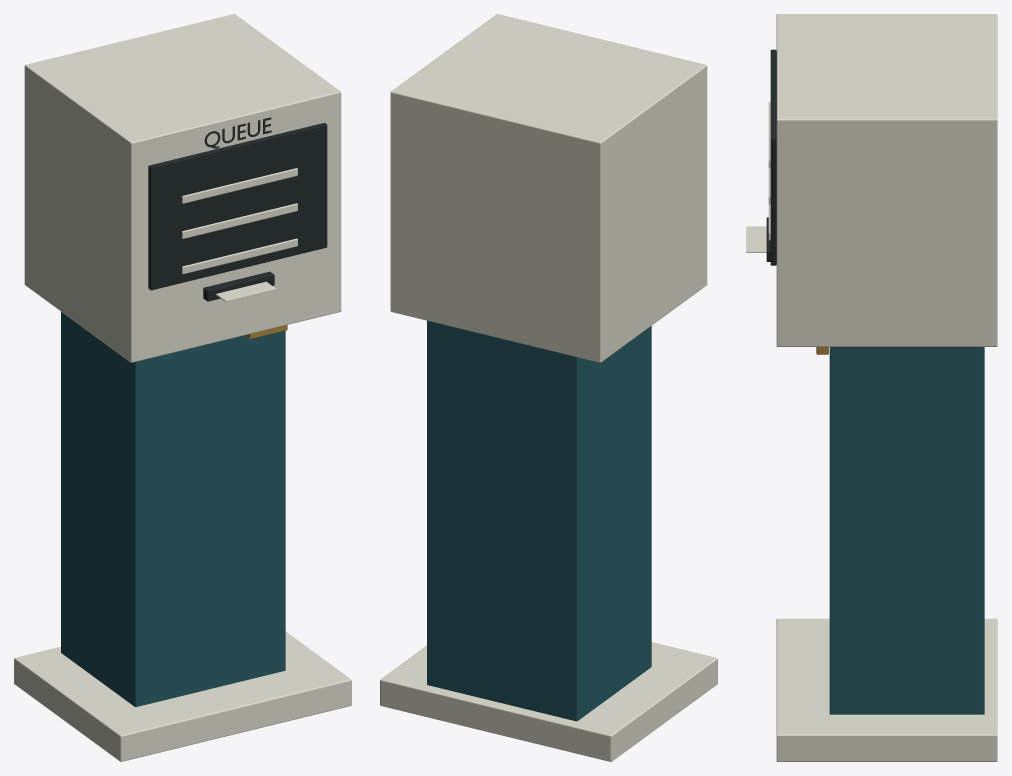
File: source-edit.glb
3 views of the same model, side by side, from view 1: azimuth 30°, elevation 25°; view 2: azimuth 150°, elevation 25°; view 3: azimuth 270°, elevation 25° (orthographic). The views are drawn at different scales.
Visible parts, largest first — view 1: Pedestal, Head, Display, Foot, Interface_Line.002, Interface_Line, Interface_Line.001, Ticket_Slot, Paper; view 2: Head, Pedestal, Foot; view 3: Head, Pedestal, Foot, Display, Paper.
Part boxes in pixels (x1,y1,x2,y2): Pedestal: [61, 312, 285, 707]; Head: [24, 14, 341, 362]; Display: [148, 123, 327, 290]; Foot: [14, 631, 351, 761]; Interface_Line.002: [182, 238, 297, 274]; Interface_Line: [182, 168, 297, 203]; Interface_Line.001: [182, 203, 297, 238]; Ticket_Slot: [203, 271, 274, 301]; Paper: [216, 281, 276, 301]; Head: [390, 14, 707, 362]; Pedestal: [427, 320, 651, 721]; Foot: [380, 642, 717, 761]; Head: [776, 14, 997, 346]; Pedestal: [829, 347, 984, 714]; Foot: [776, 618, 997, 761]; Display: [770, 49, 776, 265]; Paper: [746, 226, 766, 252].
Bounding box in the file's own units: 0.55 × 1.4 × 0.5.
